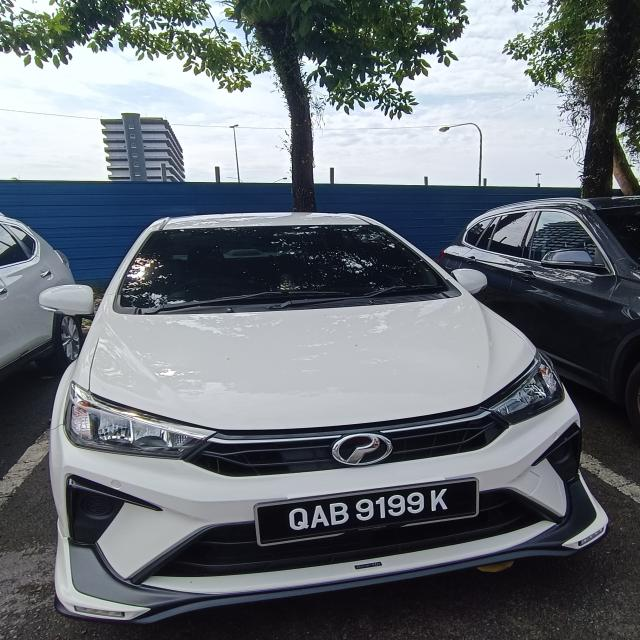PeroduaBezza: (45, 210, 610, 624)
